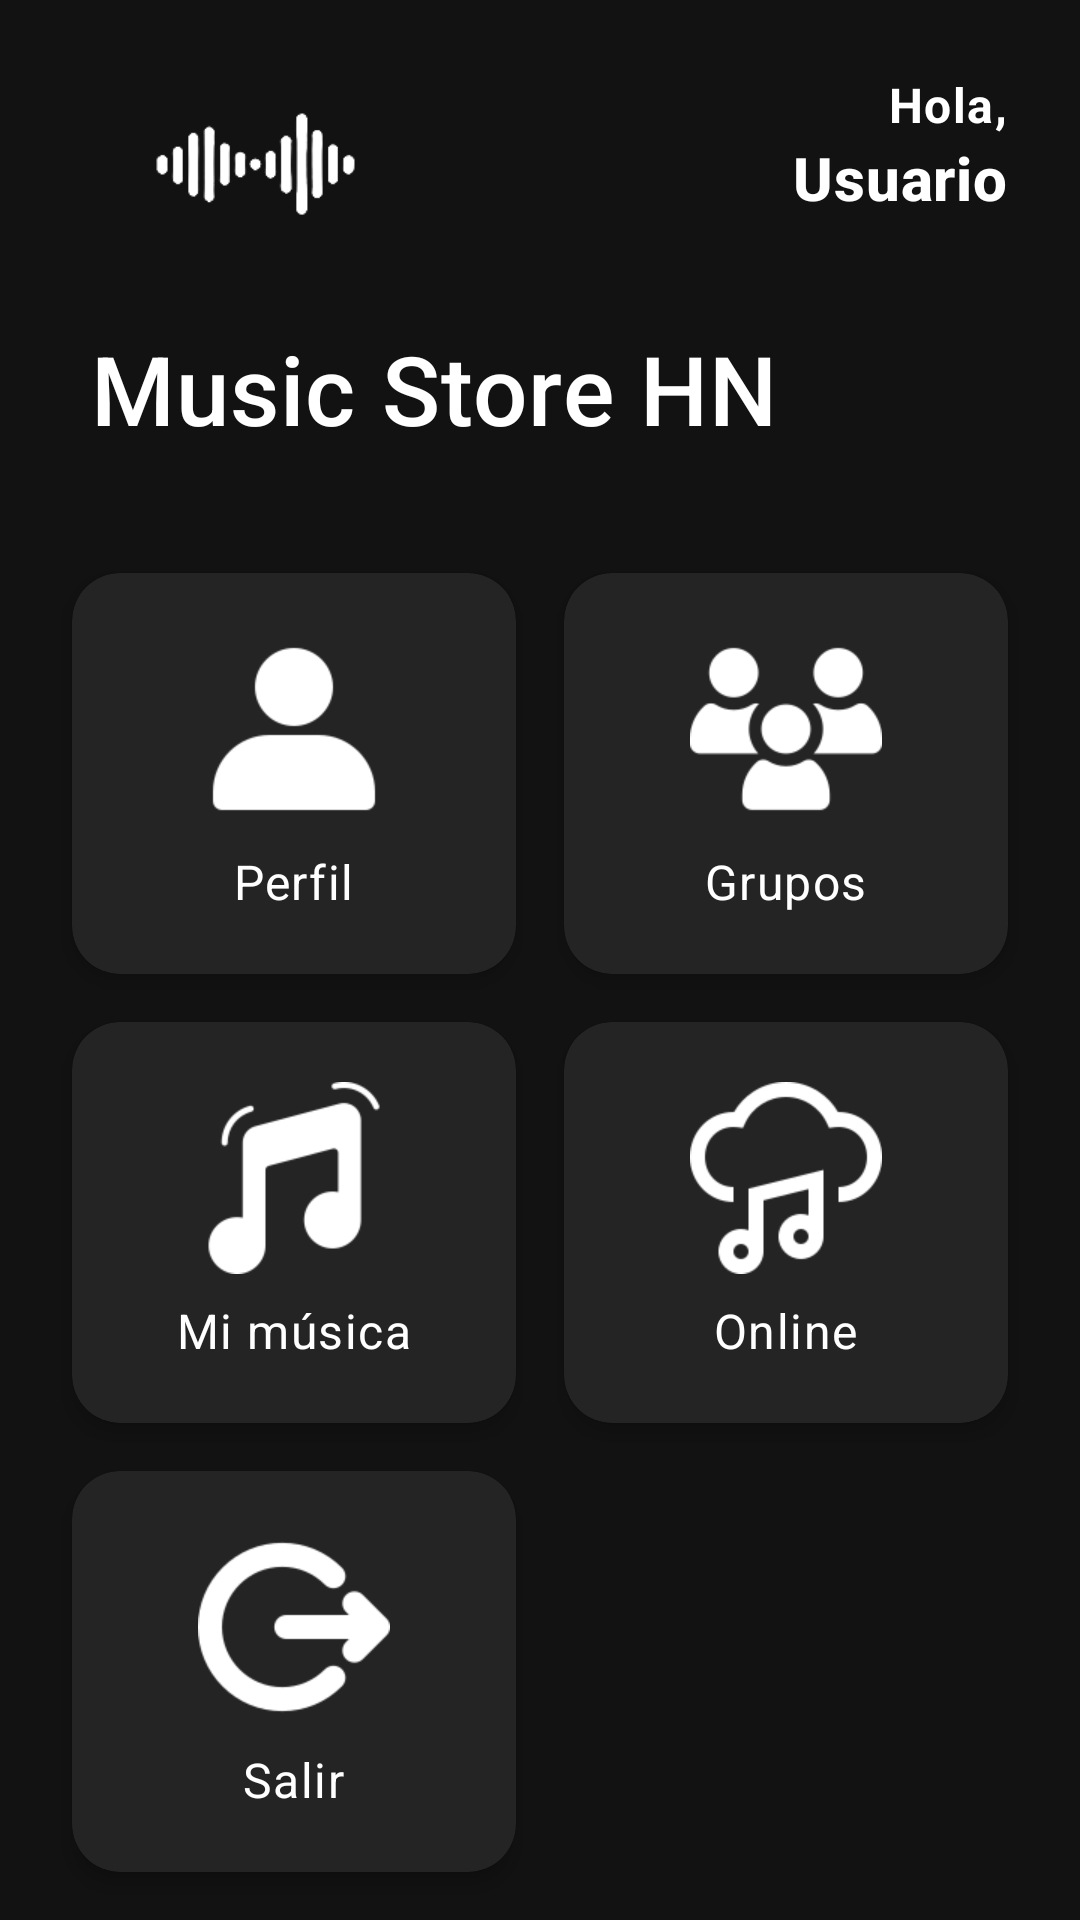

Icons on this 1080 × 1920 Android screen, each with the point to tap as point (x, y):
usuario: point (294, 729)
